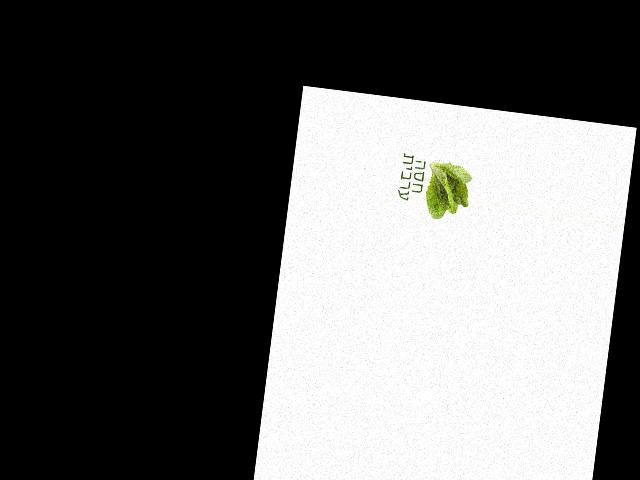lettuce: (417, 156, 473, 223)
